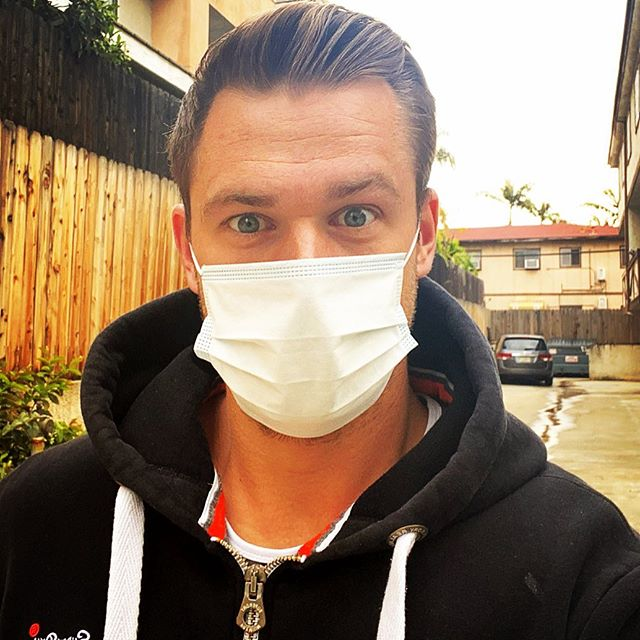surgical: (187, 252, 420, 444)
